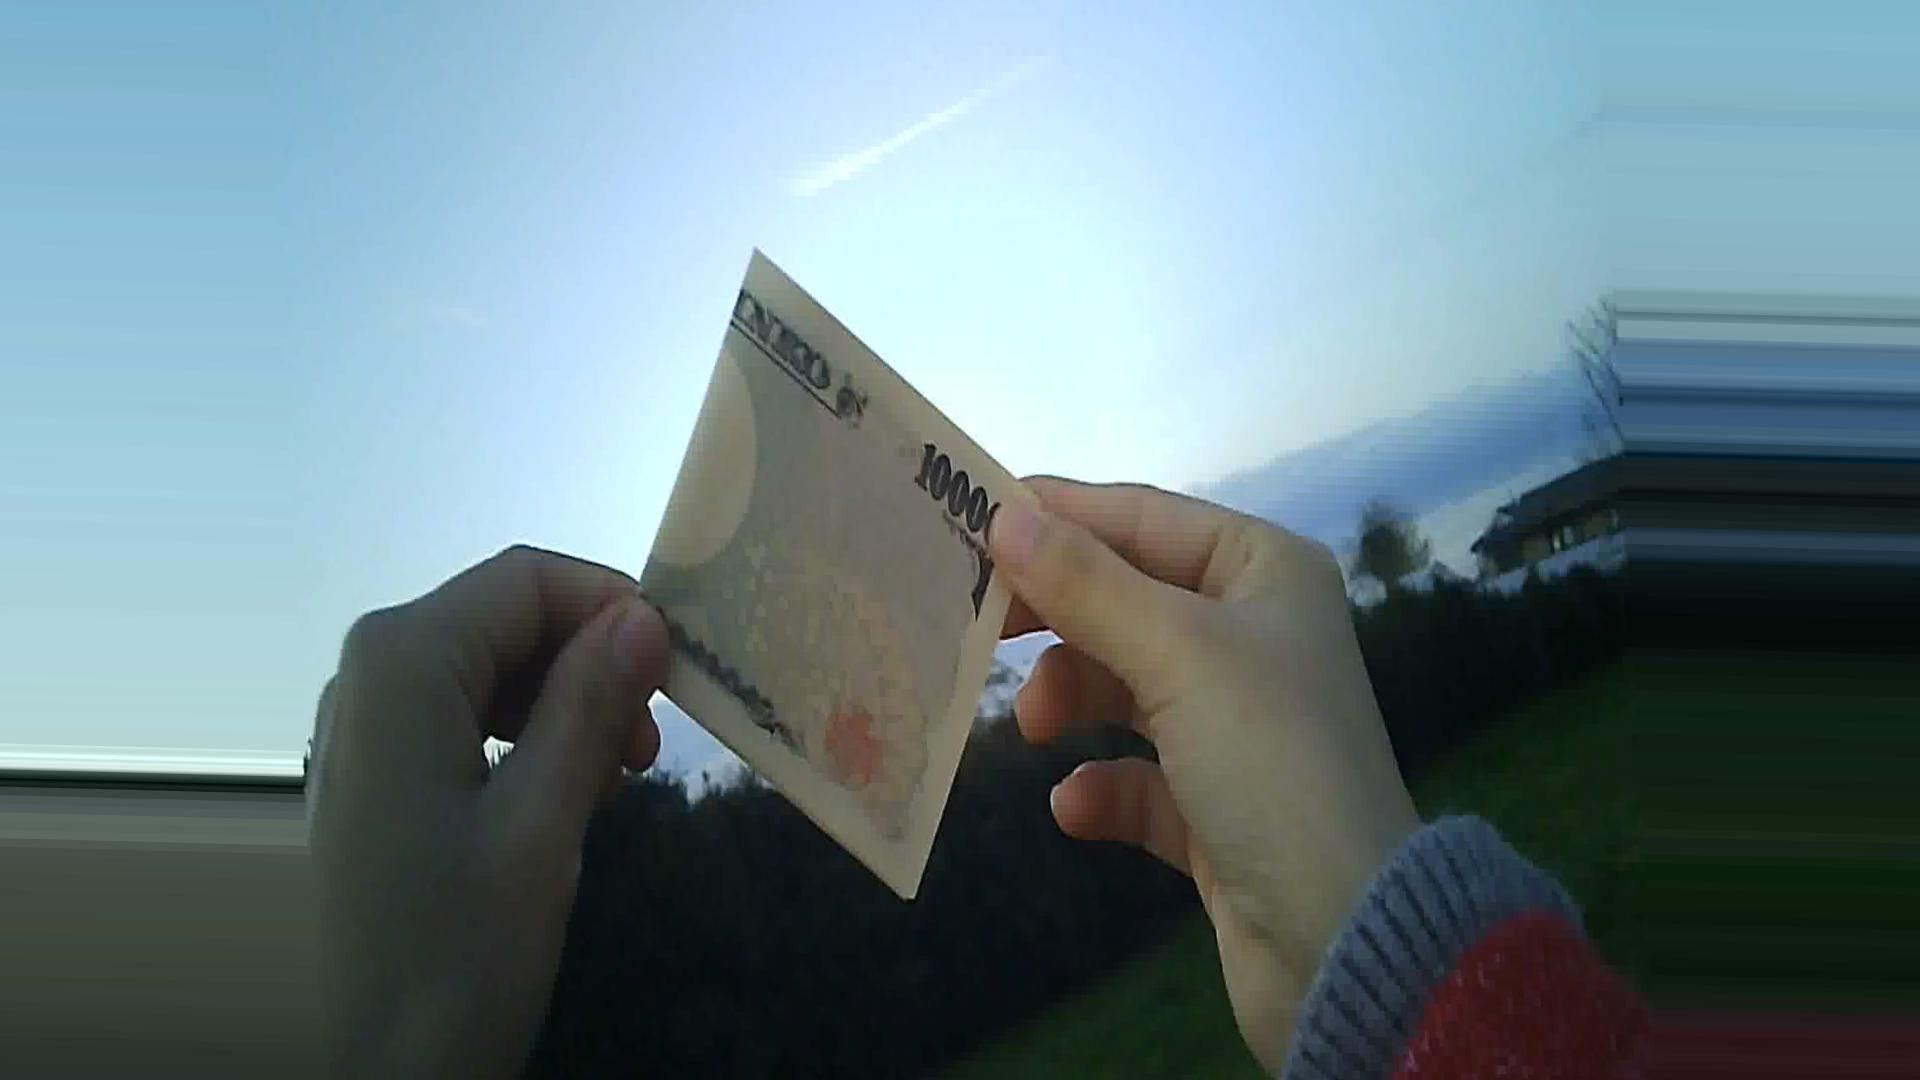10,000 Yen: (617, 222, 1023, 905)
